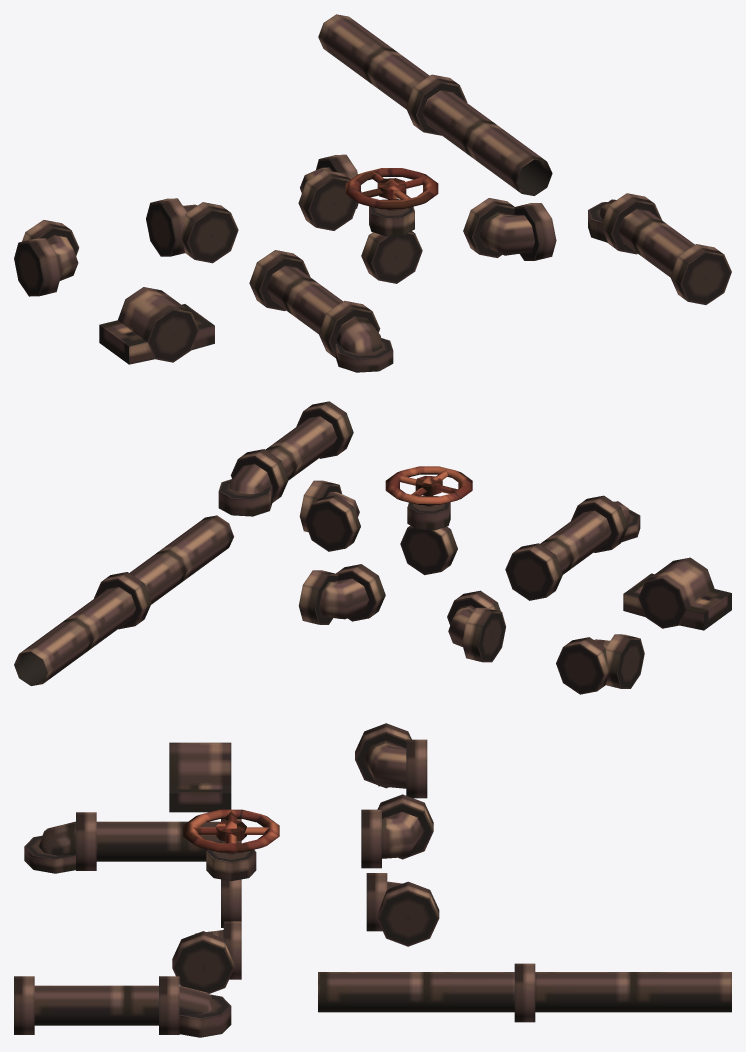
File: EnvMdrMD_Factory_A_Grd_Duct_B_End.FBX
3 views of the same model, one above another, from view 1: azimuth 30°, elevation 25°; view 2: azimuth 150°, elevation 25°; view 3: azimuth 270°, elevation 25° (orthographic). The views are drawn at different scales.
Visible parts, largest first — view 1: EnvMdrMD_Factory_A_Grd_Duct_B_Loop, EnvMdrMD_Factory_A_Grd_Duct_B_End, EnvMdrMD_Factory_A_Grd_Duct_B_Start, EnvMdrMD_Factory_A_Grd_Duct_B_Valve, EnvMdrMD_Factory_A_Grd_Duct_B_Post, EnvMdrMD_Factory_A_Grd_Duct_B_SL_LB, EnvMdrMD_Factory_A_Grd_Duct_B_SL_RF, EnvMdrMD_Factory_A_Grd_Duct_B_SL_RB, EnvMdrMD_Factory_A_Grd_Duct_B_SL_LF; view 2: EnvMdrMD_Factory_A_Grd_Duct_B_Loop, EnvMdrMD_Factory_A_Grd_Duct_B_Start, EnvMdrMD_Factory_A_Grd_Duct_B_End, EnvMdrMD_Factory_A_Grd_Duct_B_Valve, EnvMdrMD_Factory_A_Grd_Duct_B_Post, EnvMdrMD_Factory_A_Grd_Duct_B_SL_RB, EnvMdrMD_Factory_A_Grd_Duct_B_SL_LF, EnvMdrMD_Factory_A_Grd_Duct_B_SL_RF, EnvMdrMD_Factory_A_Grd_Duct_B_SL_LB; view 3: EnvMdrMD_Factory_A_Grd_Duct_B_Loop, EnvMdrMD_Factory_A_Grd_Duct_B_Start, EnvMdrMD_Factory_A_Grd_Duct_B_End, EnvMdrMD_Factory_A_Grd_Duct_B_Valve, EnvMdrMD_Factory_A_Grd_Duct_B_Post, EnvMdrMD_Factory_A_Grd_Duct_B_SL_RB, EnvMdrMD_Factory_A_Grd_Duct_B_SL_LF, EnvMdrMD_Factory_A_Grd_Duct_B_SL_LB, EnvMdrMD_Factory_A_Grd_Duct_B_SL_RF.
Boxes of the visible parts, x1=… form: EnvMdrMD_Factory_A_Grd_Duct_B_Loop: x1=318, y1=14, x2=552, y2=195; EnvMdrMD_Factory_A_Grd_Duct_B_End: x1=249, y1=250, x2=393, y2=372; EnvMdrMD_Factory_A_Grd_Duct_B_Start: x1=588, y1=193, x2=731, y2=304; EnvMdrMD_Factory_A_Grd_Duct_B_Valve: x1=345, y1=168, x2=438, y2=283; EnvMdrMD_Factory_A_Grd_Duct_B_Post: x1=99, y1=287, x2=214, y2=364; EnvMdrMD_Factory_A_Grd_Duct_B_SL_LB: x1=146, y1=198, x2=238, y2=263; EnvMdrMD_Factory_A_Grd_Duct_B_SL_RF: x1=463, y1=198, x2=556, y2=260; EnvMdrMD_Factory_A_Grd_Duct_B_SL_RB: x1=14, y1=220, x2=79, y2=296; EnvMdrMD_Factory_A_Grd_Duct_B_SL_LF: x1=298, y1=154, x2=361, y2=230; EnvMdrMD_Factory_A_Grd_Duct_B_Loop: x1=14, y1=515, x2=233, y2=685; EnvMdrMD_Factory_A_Grd_Duct_B_Start: x1=218, y1=401, x2=353, y2=516; EnvMdrMD_Factory_A_Grd_Duct_B_End: x1=505, y1=495, x2=640, y2=600; EnvMdrMD_Factory_A_Grd_Duct_B_Valve: x1=385, y1=466, x2=472, y2=575; EnvMdrMD_Factory_A_Grd_Duct_B_Post: x1=623, y1=557, x2=731, y2=630; EnvMdrMD_Factory_A_Grd_Duct_B_SL_RB: x1=556, y1=634, x2=644, y2=694; EnvMdrMD_Factory_A_Grd_Duct_B_SL_LF: x1=298, y1=564, x2=385, y2=624; EnvMdrMD_Factory_A_Grd_Duct_B_SL_RF: x1=299, y1=480, x2=360, y2=551; EnvMdrMD_Factory_A_Grd_Duct_B_SL_LB: x1=447, y1=590, x2=505, y2=662; EnvMdrMD_Factory_A_Grd_Duct_B_Loop: x1=318, y1=963, x2=731, y2=1022; EnvMdrMD_Factory_A_Grd_Duct_B_Start: x1=14, y1=976, x2=231, y2=1037; EnvMdrMD_Factory_A_Grd_Duct_B_End: x1=24, y1=812, x2=241, y2=873; EnvMdrMD_Factory_A_Grd_Duct_B_Valve: x1=183, y1=809, x2=279, y2=927; EnvMdrMD_Factory_A_Grd_Duct_B_Post: x1=169, y1=742, x2=231, y2=812; EnvMdrMD_Factory_A_Grd_Duct_B_SL_RB: x1=355, y1=723, x2=427, y2=798; EnvMdrMD_Factory_A_Grd_Duct_B_SL_LF: x1=366, y1=873, x2=439, y2=946; EnvMdrMD_Factory_A_Grd_Duct_B_SL_LB: x1=361, y1=794, x2=433, y2=868; EnvMdrMD_Factory_A_Grd_Duct_B_SL_RF: x1=172, y1=921, x2=241, y2=993.
Size of the model in its own units: 308 by 56.36 by 347.
1 material, 1 textured.
